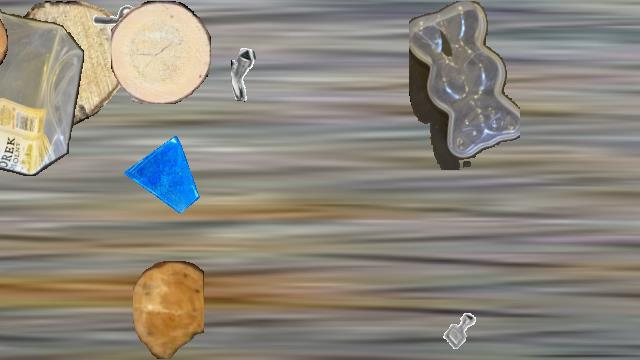glass: (124, 136, 200, 212)
metal: (78, 1, 140, 63), (231, 46, 287, 102), (435, 305, 485, 355)
plastic: (409, 1, 519, 169), (0, 1, 84, 175)
wood: (0, 1, 128, 127), (111, 1, 211, 103), (133, 261, 203, 359), (0, 1, 8, 87)
